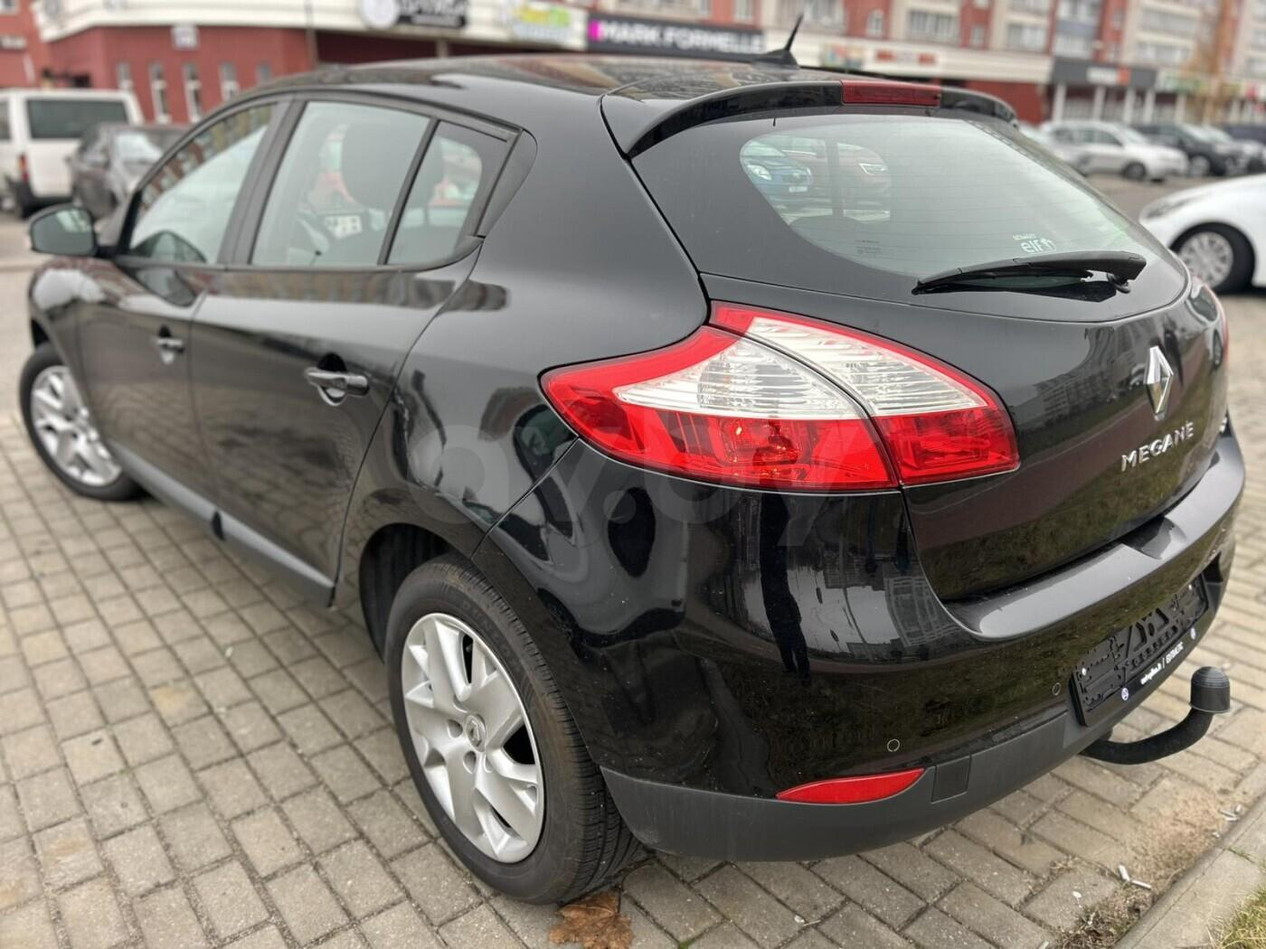Megane_2008-2014: (7, 59, 1266, 910)
